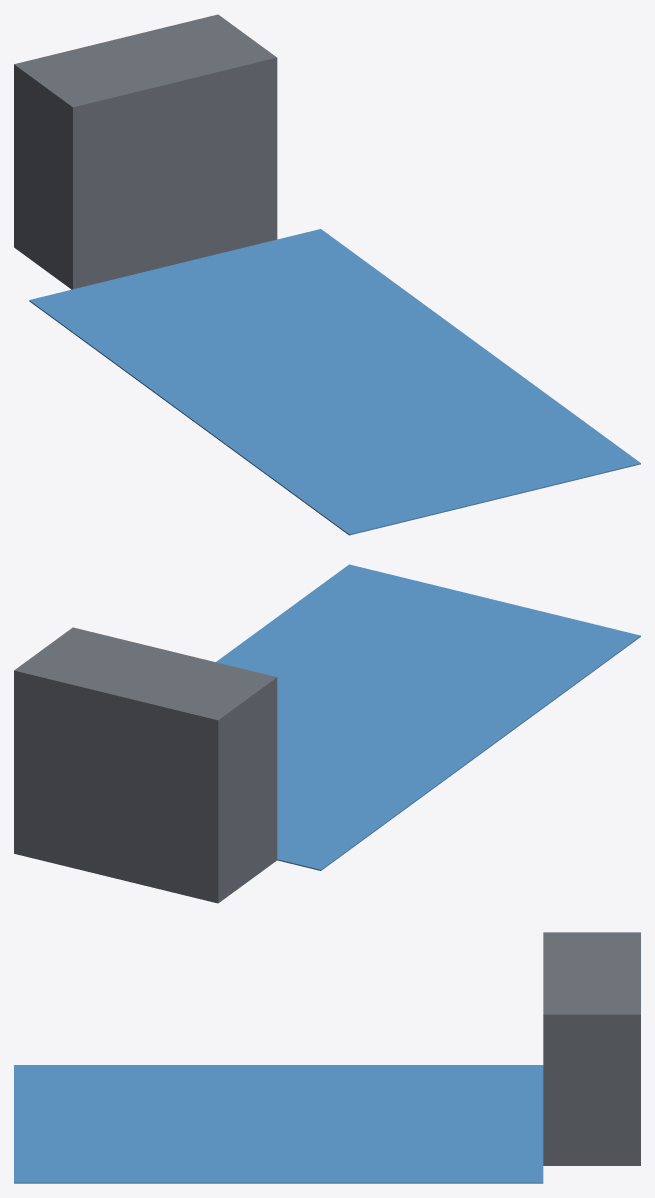
The model's file is PalletYardChargerStation.glb.
3 renders of one model, top to bottom at view 1: azimuth 30°, elevation 25°; view 2: azimuth 150°, elevation 25°; view 3: azimuth 270°, elevation 25°, orthographic. The views are drawn at different scales.
Parts seen in each view (by area): view 1: Plate, Housing; view 2: Plate, Housing; view 3: Plate, Housing.
Boxes of the visible parts, x1,y1,x2,y2 form: Plate: [29, 229, 640, 535]; Housing: [14, 14, 277, 289]; Plate: [216, 564, 640, 870]; Housing: [14, 627, 277, 903]; Plate: [14, 1065, 543, 1183]; Housing: [543, 932, 640, 1165].
Bounding box in the file's own units: 1 × 0.6 × 2.25.
